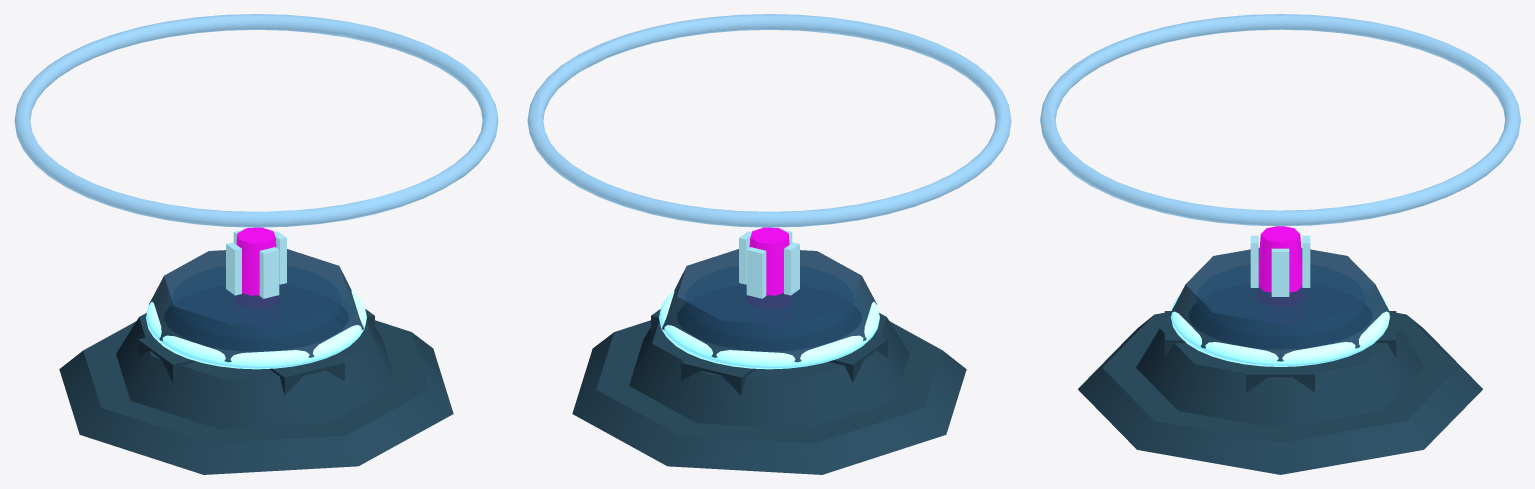
The model's file is courtyard-fountain.high.glb.
3 views of the same model, side by side, from view 1: azimuth 30°, elevation 25°; view 2: azimuth 150°, elevation 25°; view 3: azimuth 270°, elevation 25° (orthographic).
Visible parts, largest first — view 1: courtyard-fountain-body, upper-halo, courtyard-fountain-transparent|#1a3d5a|#17384a|0.08|0.55|0.2, water-ring, courtyard-fountain-emissive, core; view 2: courtyard-fountain-body, upper-halo, courtyard-fountain-transparent|#1a3d5a|#17384a|0.08|0.55|0.2, water-ring, courtyard-fountain-emissive, core; view 3: courtyard-fountain-body, upper-halo, courtyard-fountain-transparent|#1a3d5a|#17384a|0.08|0.55|0.2, water-ring, core, courtyard-fountain-emissive.
Boxes of the visible parts, x1,y1,x2,y2 form: courtyard-fountain-body: (59,309,453,474); upper-halo: (14,14,498,227); courtyard-fountain-transparent|#1a3d5a|#17384a|0.08|0.55|0.2: (149,249,363,362); water-ring: (146,291,366,369); courtyard-fountain-emissive: (226,229,286,298); core: (236,227,276,295); courtyard-fountain-body: (572,309,966,474); upper-halo: (527,14,1011,227); courtyard-fountain-transparent|#1a3d5a|#17384a|0.08|0.55|0.2: (662,249,876,362); water-ring: (659,291,879,369); courtyard-fountain-emissive: (739,229,799,298); core: (749,227,789,295); courtyard-fountain-body: (1078,311,1482,474); upper-halo: (1040,14,1520,226); courtyard-fountain-transparent|#1a3d5a|#17384a|0.08|0.55|0.2: (1169,248,1391,361); water-ring: (1170,294,1390,366); core: (1258,226,1302,292); courtyard-fountain-emissive: (1250,235,1310,296).
Size of the model in its own units: 4.86 by 3.08 by 4.86.
Materials: 7 (7 with a texture image).
